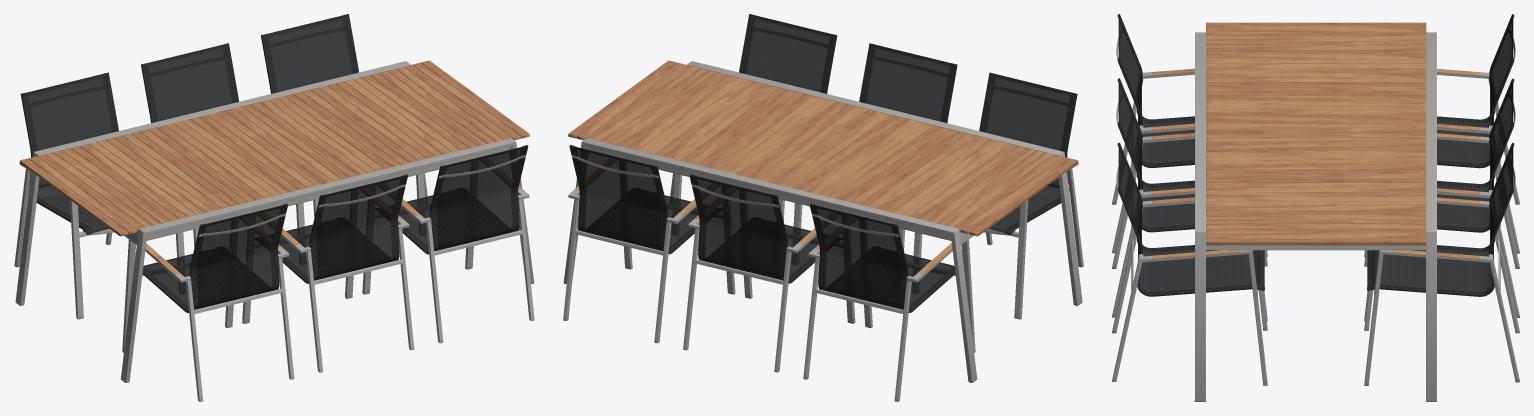
3 views of the same model, side by side, from view 1: azimuth 30°, elevation 25°; view 2: azimuth 150°, elevation 25°; view 3: azimuth 270°, elevation 25° (orthographic). The views are drawn at different scales.
Visible parts, largest first — view 1: 373%20table.obj_15; view 2: 373%20table.obj_15; view 3: 373%20table.obj_15.
Boxes of the visible parts, left/top/right/bottom form: 373%20table.obj_15: left=14, top=14, right=534, bottom=401; 373%20table.obj_15: left=563, top=14, right=1083, bottom=401; 373%20table.obj_15: left=1112, top=14, right=1519, bottom=401.
Size of the model in its own units: 2.57 by 1.04 by 2.02.
3 materials, 3 textured.
